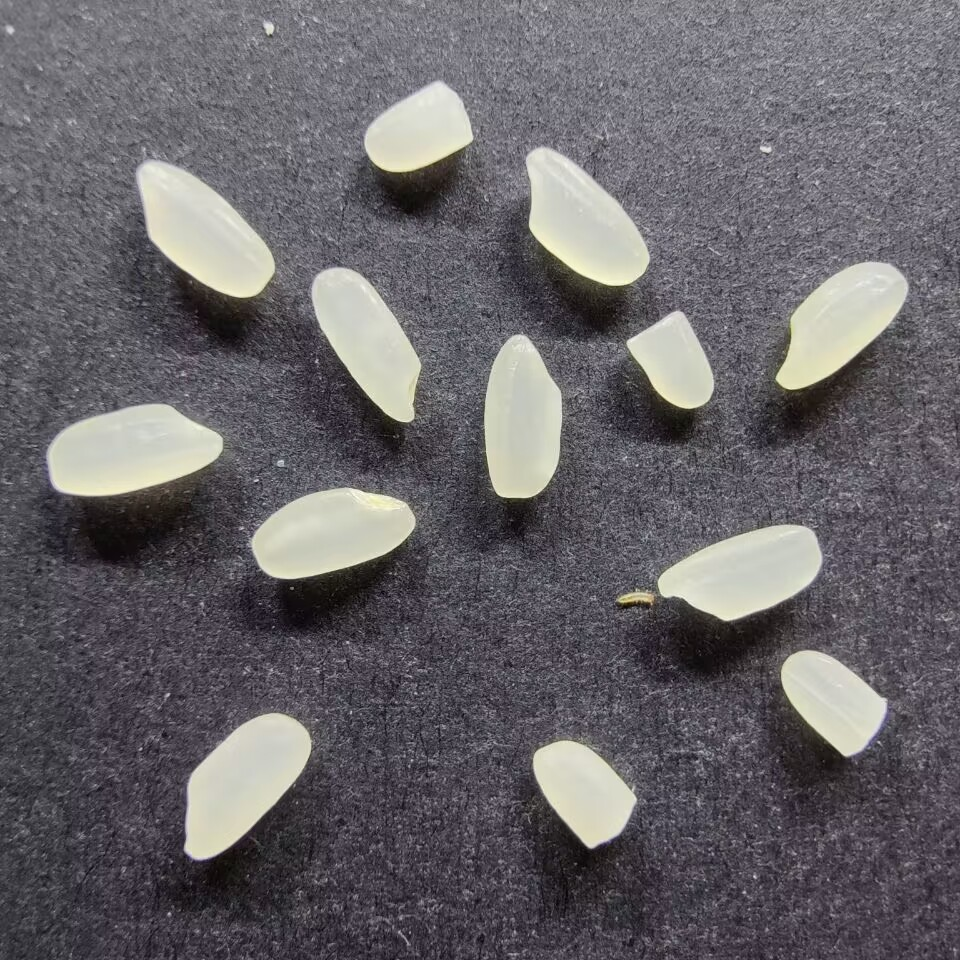broken: (530, 739, 639, 852), (778, 648, 889, 758), (361, 79, 476, 173), (623, 307, 716, 410)
others: (612, 587, 660, 617)
rice: (133, 158, 276, 299), (181, 710, 312, 861), (309, 265, 425, 424), (523, 145, 649, 287), (773, 260, 909, 391), (44, 401, 225, 499), (655, 523, 822, 623), (250, 483, 416, 580), (480, 333, 563, 499)
